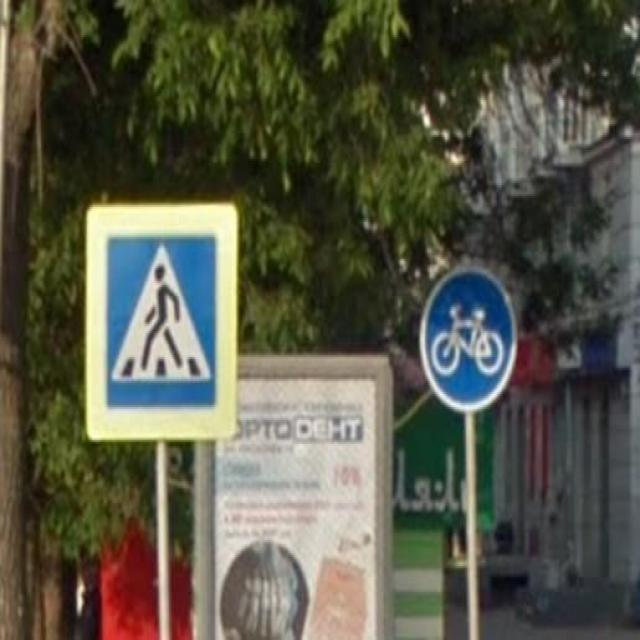traffic_sign: (85, 202, 238, 440), (418, 263, 517, 414)
